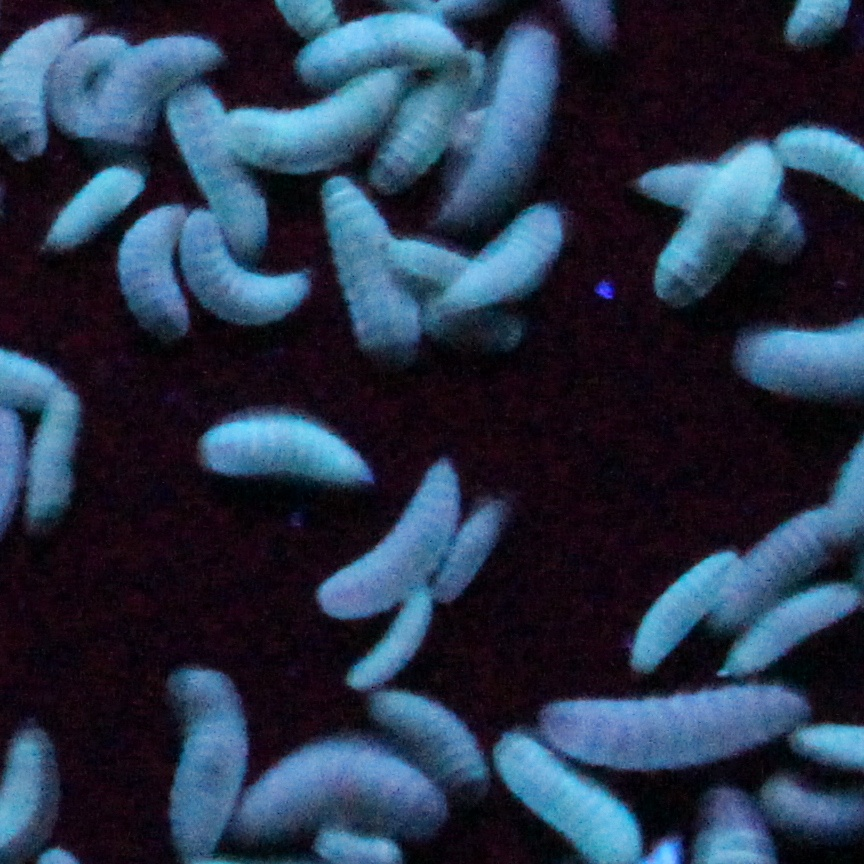larve: (307, 448, 460, 617), (219, 744, 462, 846), (650, 137, 785, 305), (321, 173, 430, 369), (544, 692, 819, 769), (162, 80, 275, 262), (189, 401, 385, 501), (453, 28, 546, 219), (175, 207, 312, 332), (432, 203, 569, 323), (166, 664, 248, 862), (225, 76, 391, 169), (616, 555, 748, 671), (707, 517, 844, 626), (96, 39, 239, 142), (630, 153, 794, 242), (364, 680, 496, 785), (373, 71, 505, 173), (728, 582, 864, 673), (121, 192, 205, 337), (298, 14, 469, 78), (44, 32, 130, 151), (41, 167, 146, 253), (346, 589, 430, 694), (421, 505, 507, 605), (32, 382, 85, 514), (389, 242, 475, 280)
